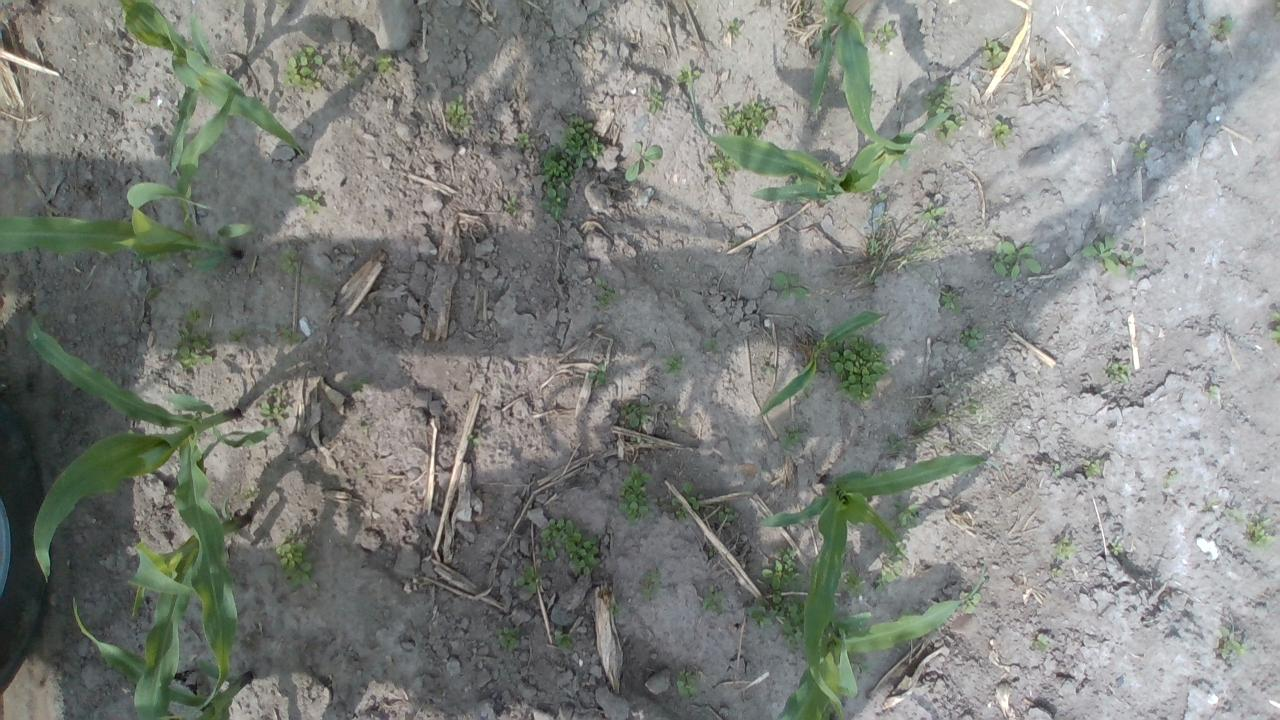Maize: (20, 311, 274, 720), (759, 446, 998, 720), (0, 87, 257, 276), (684, 73, 952, 206), (766, 563, 986, 720), (115, 0, 307, 177), (127, 496, 250, 720), (69, 593, 257, 720), (809, 0, 930, 171), (758, 309, 888, 416)
Weeds: (537, 112, 607, 221), (849, 212, 943, 284), (828, 332, 892, 404), (538, 516, 602, 577), (1081, 233, 1145, 282), (923, 78, 965, 144), (176, 298, 214, 370), (276, 529, 316, 589), (771, 590, 806, 653), (617, 462, 651, 526), (760, 546, 807, 592), (988, 240, 1041, 280), (874, 528, 906, 593), (719, 99, 772, 138), (280, 44, 322, 92), (624, 141, 662, 181), (707, 144, 742, 186), (442, 92, 473, 134), (672, 480, 704, 520), (1244, 514, 1276, 552), (771, 270, 809, 300), (1218, 626, 1250, 659), (907, 404, 946, 431), (912, 200, 948, 229), (978, 35, 1008, 69), (748, 593, 776, 629), (838, 562, 866, 598), (258, 385, 286, 421), (865, 22, 898, 52), (954, 322, 986, 352), (620, 399, 654, 427), (890, 499, 920, 529), (592, 276, 618, 310), (639, 565, 663, 601), (514, 564, 544, 592), (336, 54, 362, 85), (274, 247, 301, 276), (778, 422, 804, 452), (494, 625, 522, 652), (293, 192, 322, 218), (643, 82, 665, 115), (988, 118, 1013, 147), (700, 584, 724, 614), (1210, 15, 1236, 40), (676, 669, 698, 698), (1052, 536, 1078, 560), (1102, 362, 1130, 384), (939, 290, 962, 314), (374, 52, 395, 77), (662, 353, 684, 376), (280, 326, 308, 344), (674, 64, 700, 83), (1128, 137, 1150, 159), (884, 434, 908, 454), (226, 326, 252, 344), (588, 362, 608, 385), (554, 632, 576, 652), (342, 376, 371, 391), (960, 592, 980, 613), (962, 395, 982, 415), (701, 336, 720, 356), (718, 505, 739, 523), (606, 596, 622, 619), (852, 654, 872, 672), (1082, 458, 1102, 476), (1269, 311, 1280, 343), (502, 194, 518, 216), (1164, 469, 1180, 489), (1034, 632, 1050, 651), (1224, 508, 1244, 523), (514, 132, 532, 148), (724, 20, 741, 36), (868, 192, 886, 206), (243, 485, 260, 498), (132, 92, 152, 103), (760, 362, 778, 374), (302, 273, 320, 285), (1110, 540, 1124, 555), (670, 417, 687, 428), (466, 433, 479, 447), (788, 174, 802, 187), (1208, 385, 1220, 400), (1050, 567, 1062, 580), (900, 605, 914, 616), (1273, 0, 1280, 21), (361, 425, 374, 435), (652, 496, 666, 505), (708, 544, 718, 556), (1052, 463, 1060, 477), (580, 29, 590, 37), (731, 240, 742, 246), (128, 428, 134, 434)
